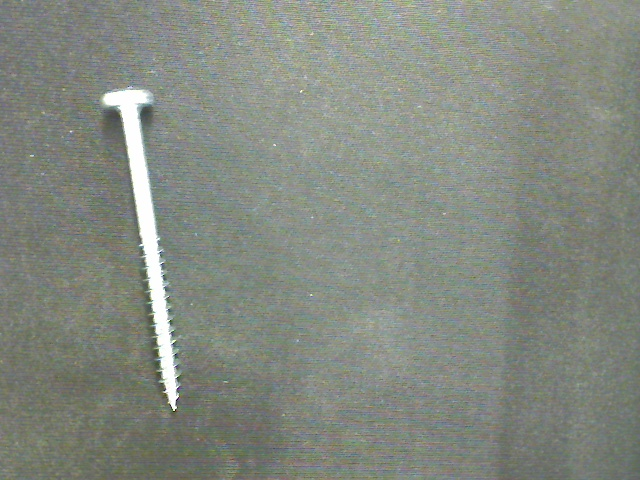Screw: (101, 89, 181, 411)
